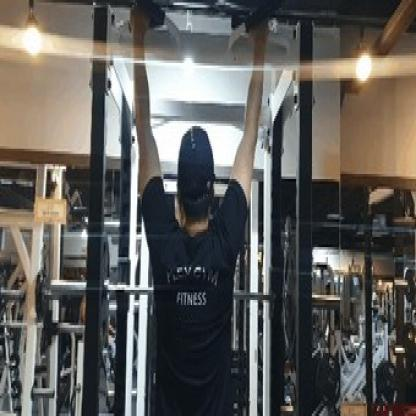Lat Pull Down: (74, 0, 307, 416)
